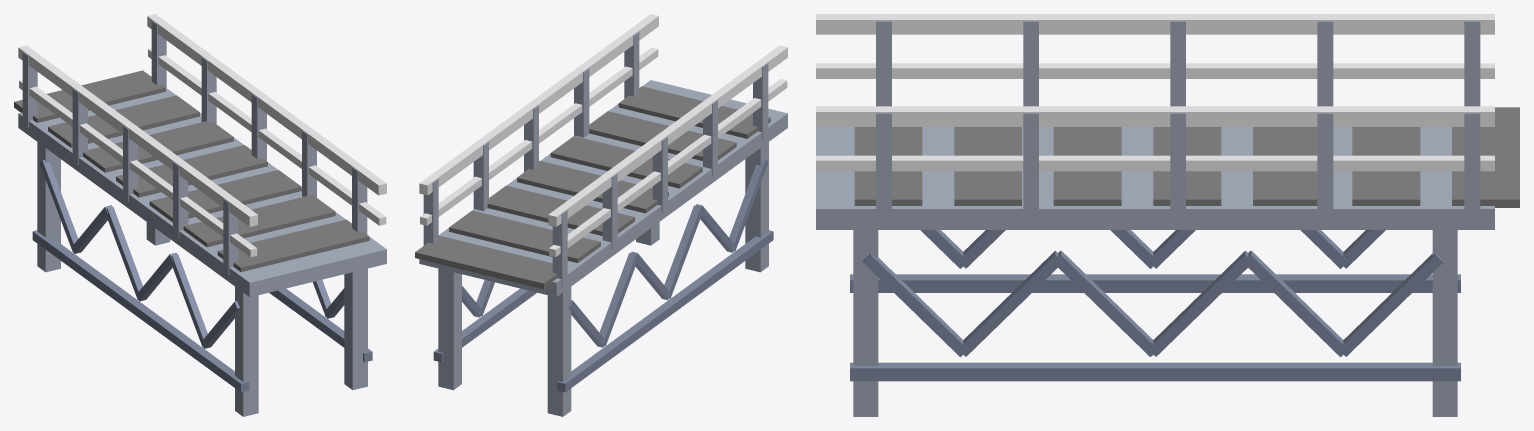
File: bridge.glb
3 views of the same model, side by side, from view 1: azimuth 30°, elevation 25°; view 2: azimuth 150°, elevation 25°; view 3: azimuth 270°, elevation 25° (orthographic). The views are drawn at different scales.
Visible parts, largest first — view 1: bridge; view 2: bridge; view 3: bridge.
Boxes of the visible parts, x1,y1,x2,y2 form: bridge: (14, 14, 386, 416); bridge: (415, 14, 787, 416); bridge: (816, 14, 1519, 416).
Size of the model in its own units: 1 by 1.45 by 3.
